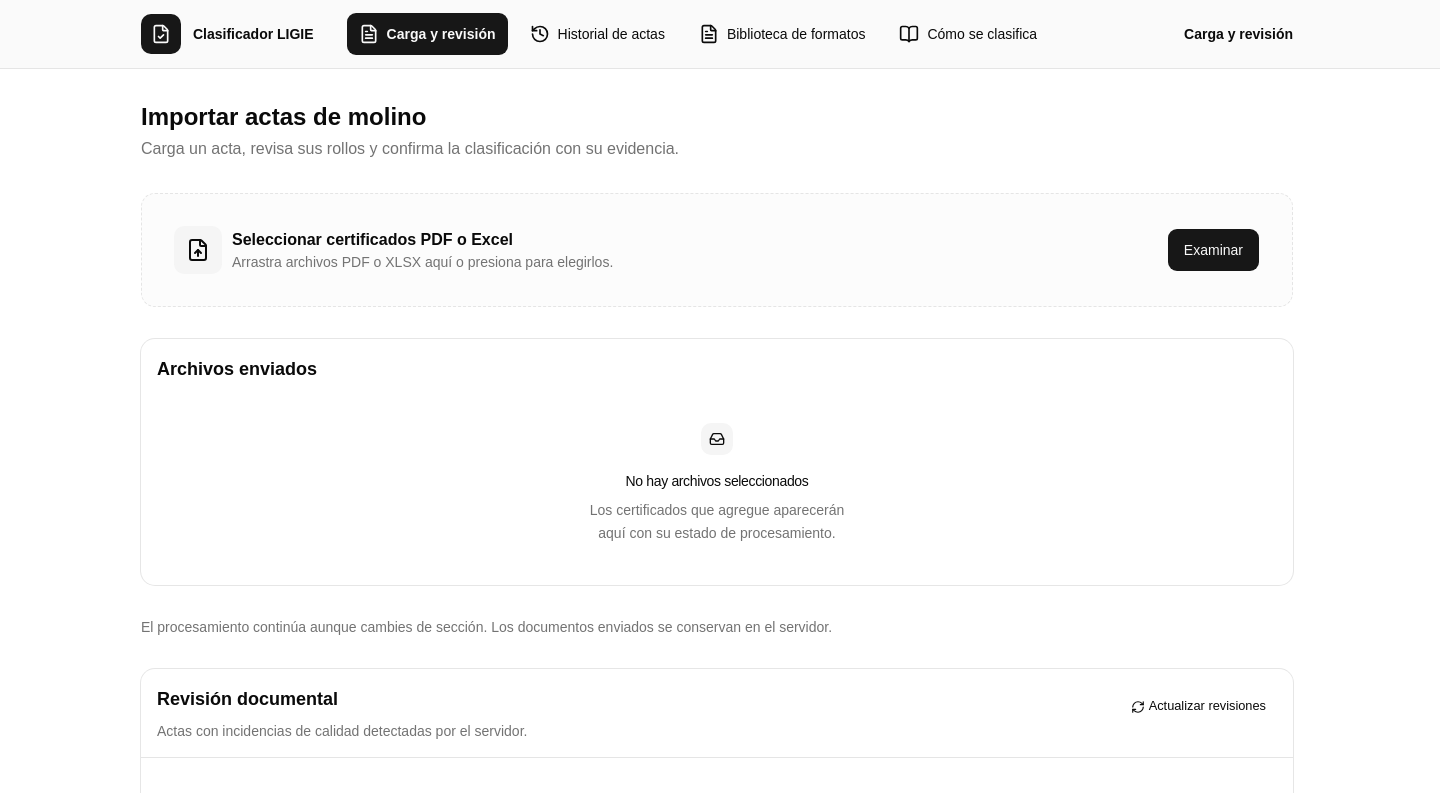
Sugerencias junto a los rollos › muestra la colada y los códigos del producto correspondiente sin visor PDF izquierdo
The image size is (1440, 793).
Click the button "Historial de actas" at (597, 34), box top-left (516, 12), bottom-right (678, 56)
(page scrolled)
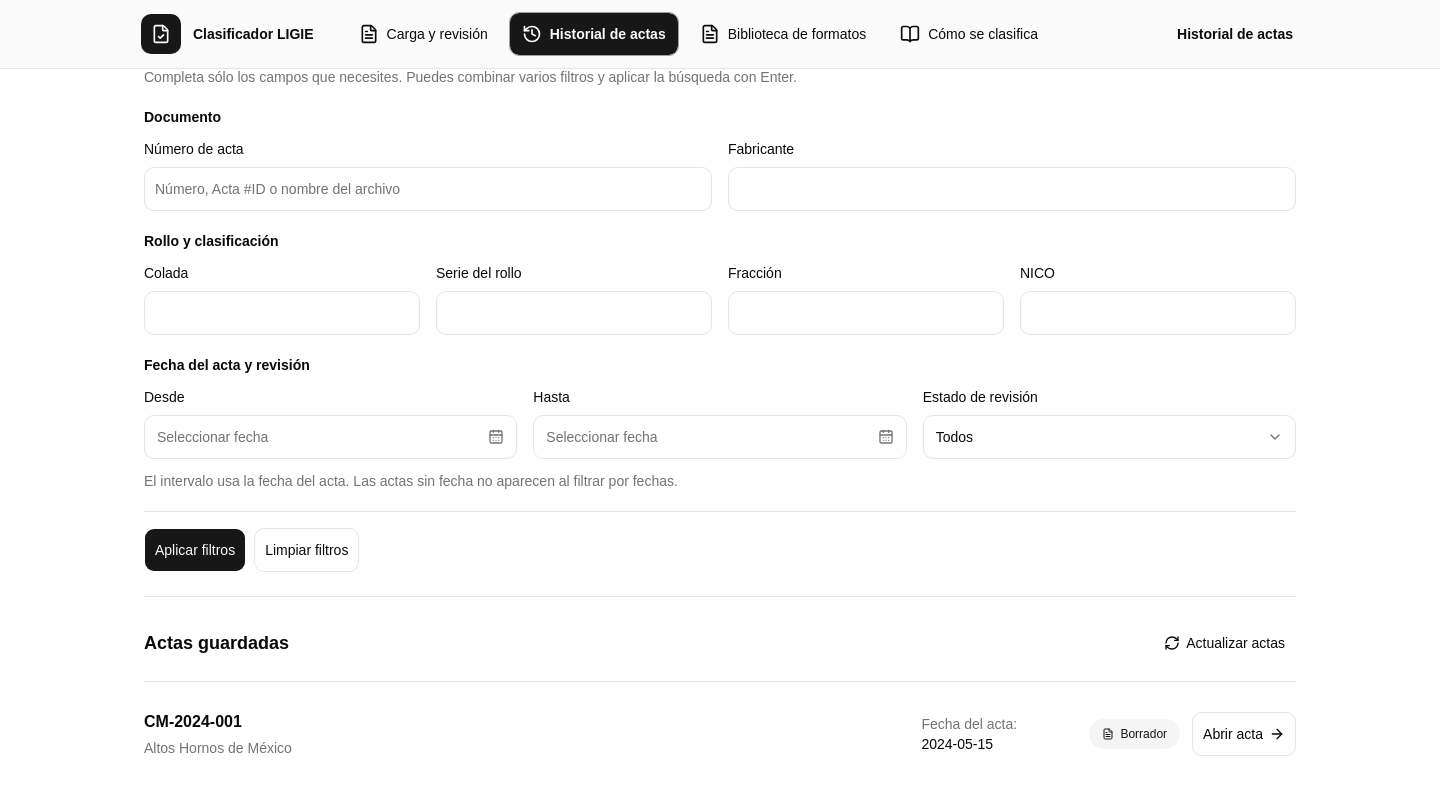
Click the button "Abrir acta" at (1244, 734), box top-left (1192, 712), bottom-right (1296, 756)
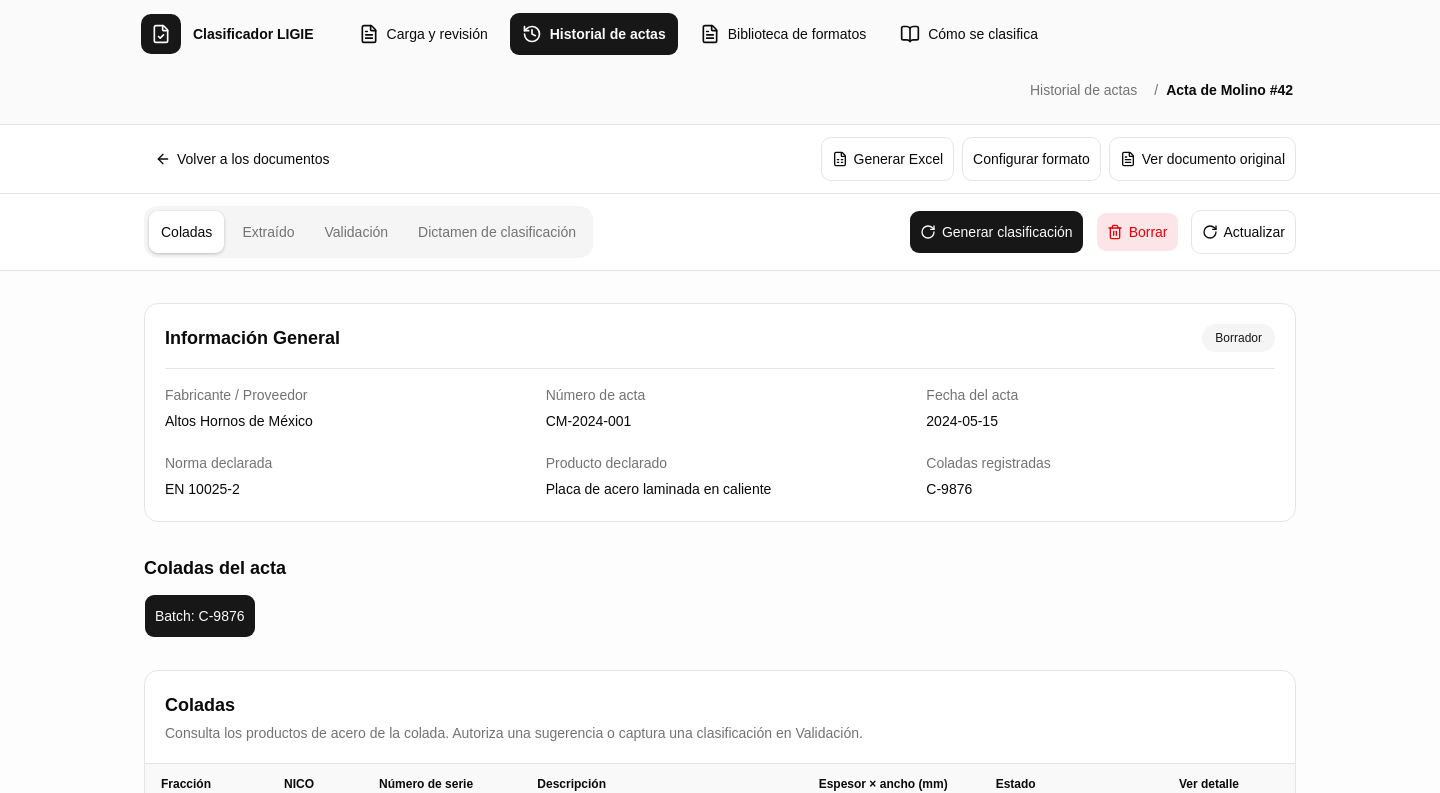
Click the button "Batch: C-9876" at (200, 616), box top-left (144, 594), bottom-right (256, 638)
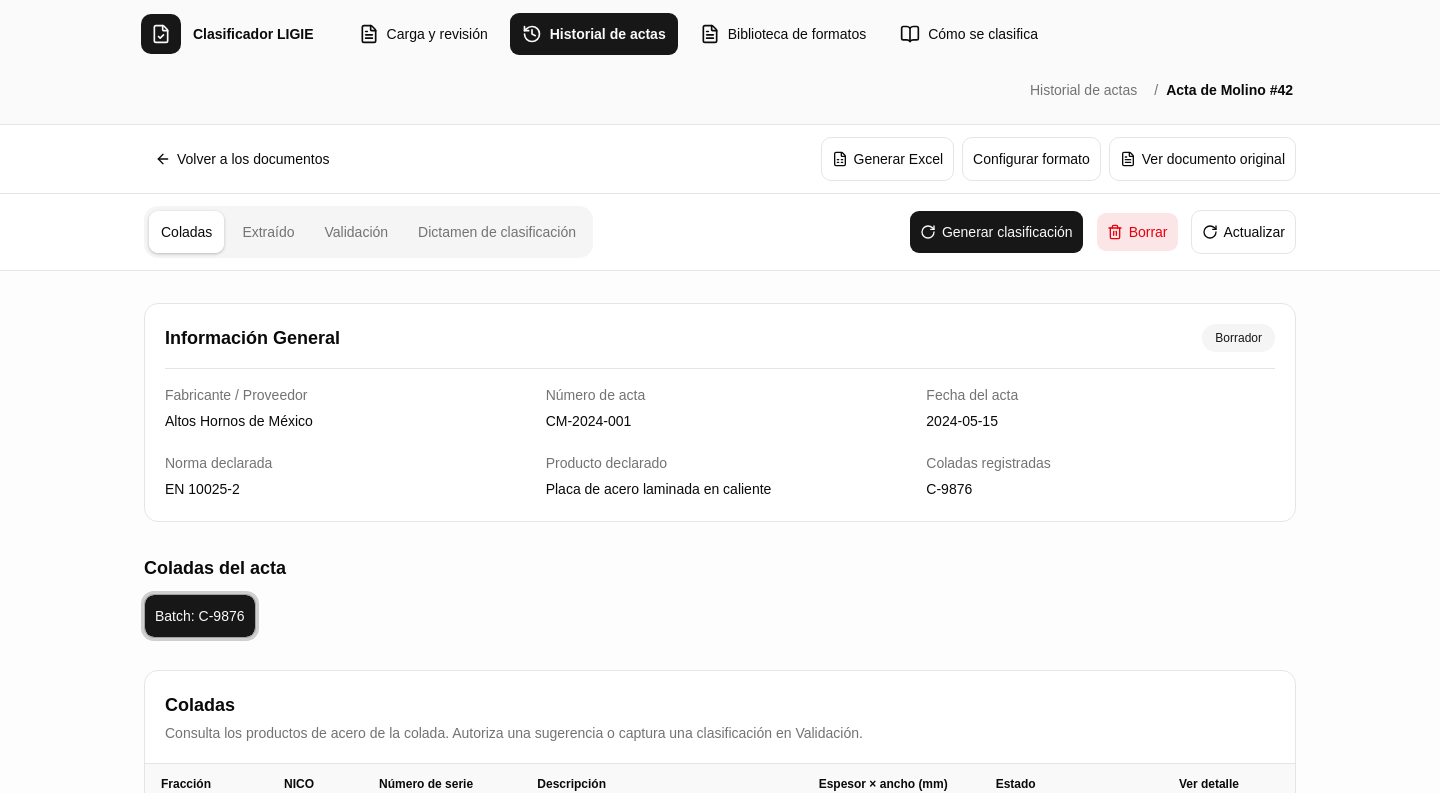
Expected: the text "72255091" is not shown
Click the button "Validación" at (356, 232), box top-left (312, 210), bottom-right (401, 254)
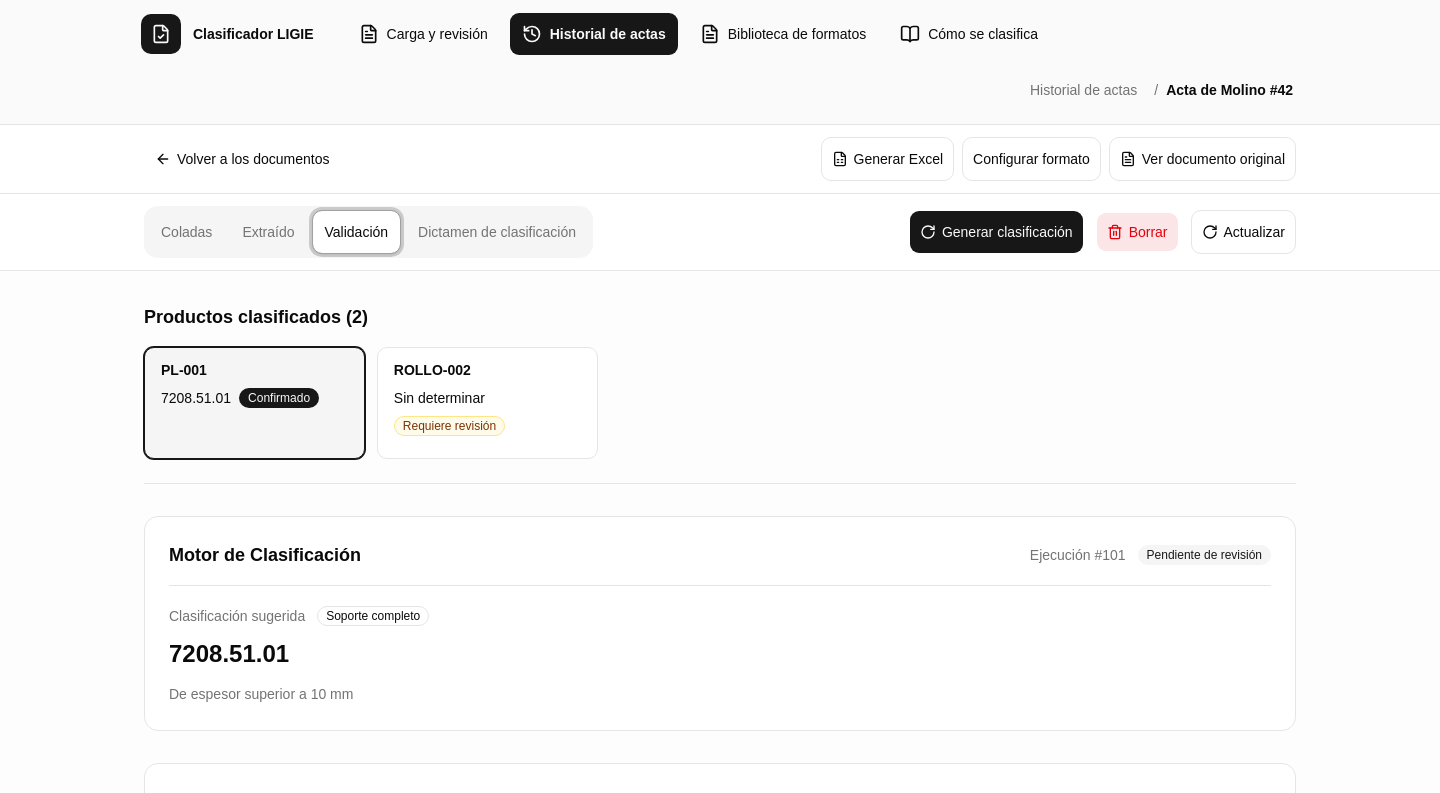
Click the button "ROLLO-002 Sin determinar Requiere revisión" at (487, 403), box top-left (377, 347), bottom-right (598, 459)
(page scrolled)
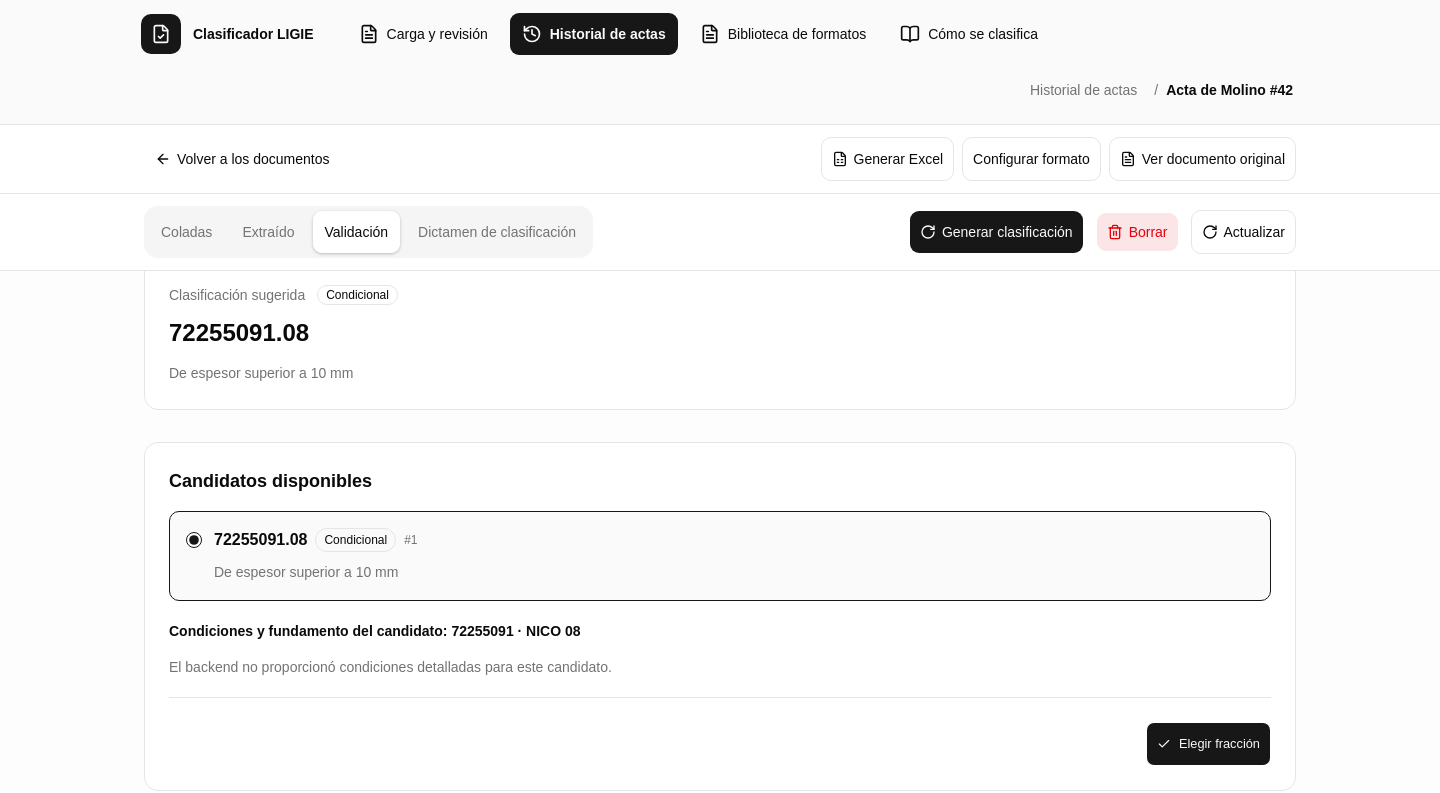
Expected: the radio button labelled "72255091.08 Condicional #1 De espesor superior a 10 mm" is checked, top-left (186, 532), bottom-right (202, 548)
